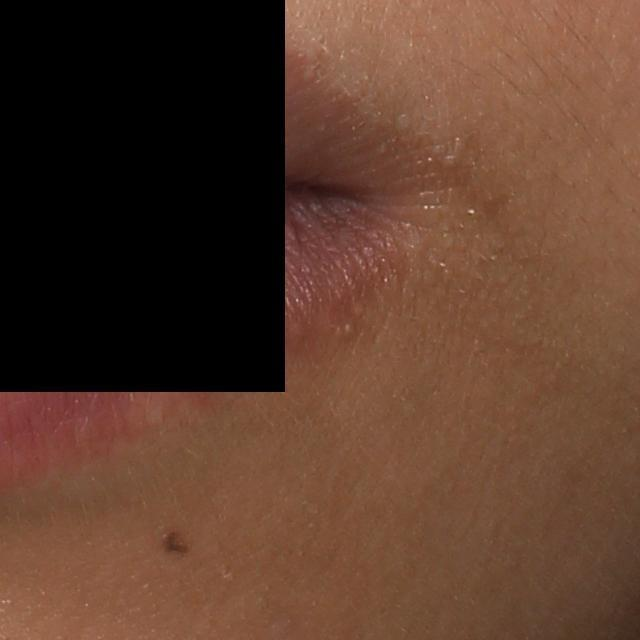nevus: (162, 526, 192, 555)
